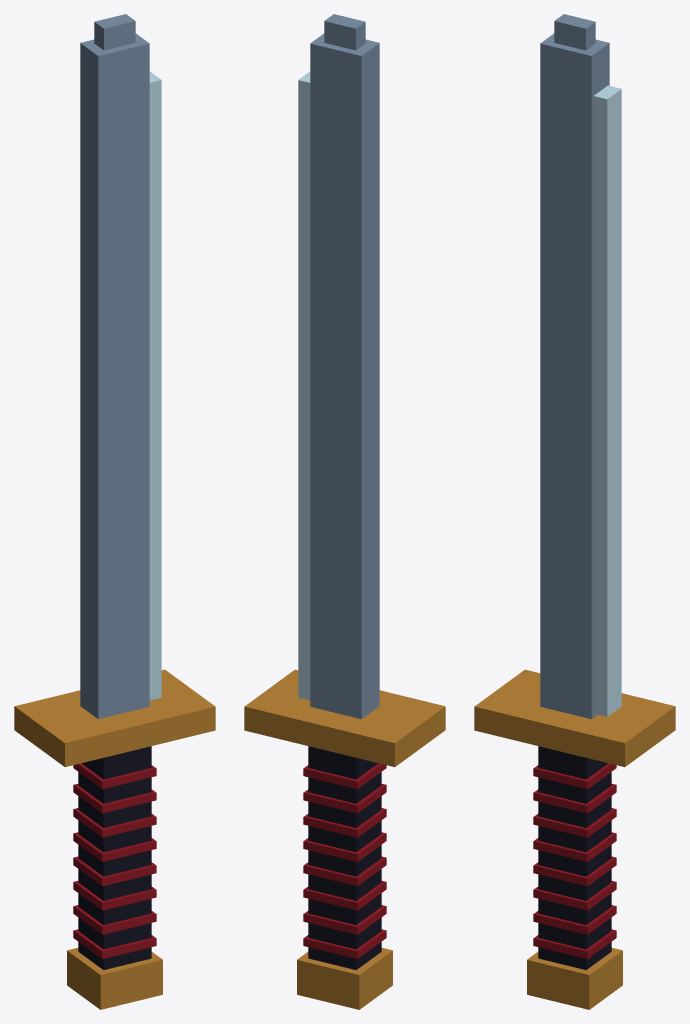
The model's file is weapon_KGB_WPN_Nodachi_Default_DRAFT_v01.glb.
3 renders of one model, left to right at view 1: azimuth 30°, elevation 25°; view 2: azimuth 150°, elevation 25°; view 3: azimuth 330°, elevation 25°, orthographic.
Parts seen in each view (by area): view 1: KGB_WPN_Nodachi_Default_DRAFT_v01; view 2: KGB_WPN_Nodachi_Default_DRAFT_v01; view 3: KGB_WPN_Nodachi_Default_DRAFT_v01.
Boxes of the visible parts, x1=… form: KGB_WPN_Nodachi_Default_DRAFT_v01: x1=14, y1=14, x2=215, y2=1009; KGB_WPN_Nodachi_Default_DRAFT_v01: x1=244, y1=14, x2=445, y2=1009; KGB_WPN_Nodachi_Default_DRAFT_v01: x1=474, y1=14, x2=675, y2=1009.
Size of the model in its own units: 0.722 by 4.44 by 0.42.
